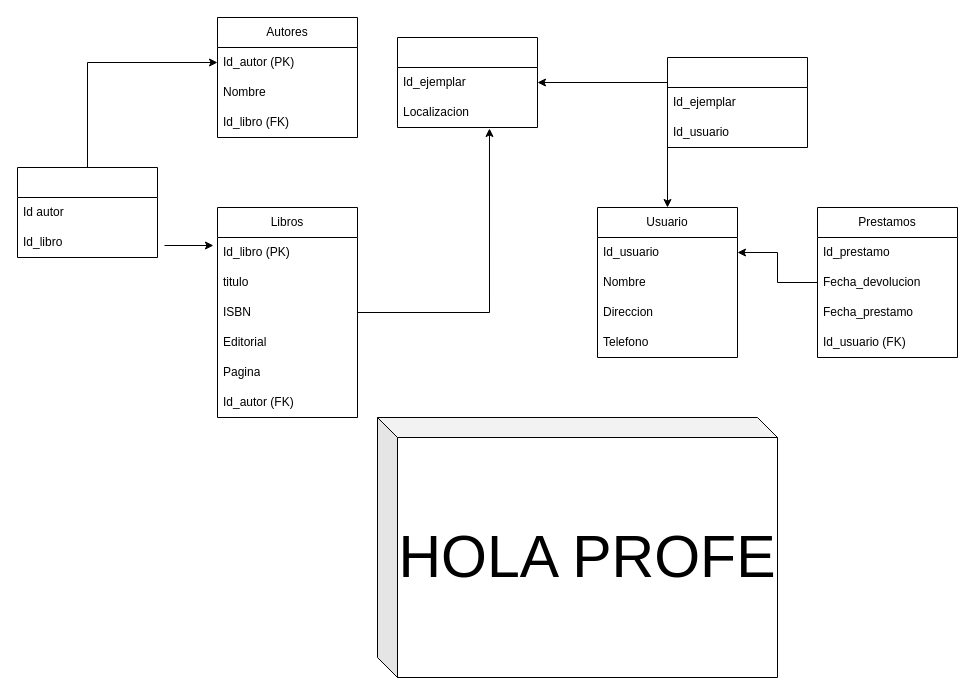
Some shapes in this 975 by 695 pixel diagram are drawn without their labels. Each missing label, with the box of its shape:
Autores_Libros: (16, 166, 158, 258)
Ejemplares: (396, 36, 538, 128)
Ejemplares_Usuarios: (666, 56, 808, 148)
